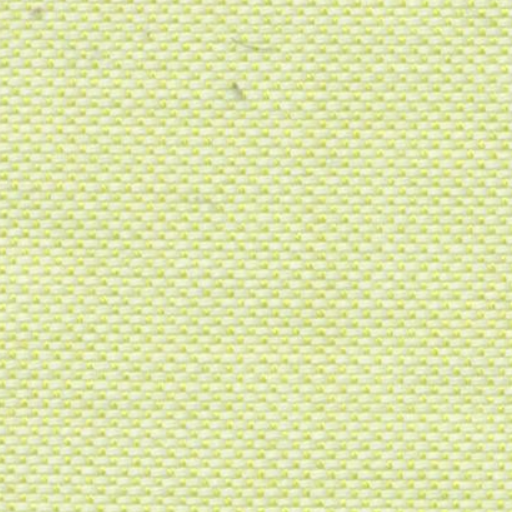WuZi: (216, 74, 252, 110), (20, 1, 53, 26)
